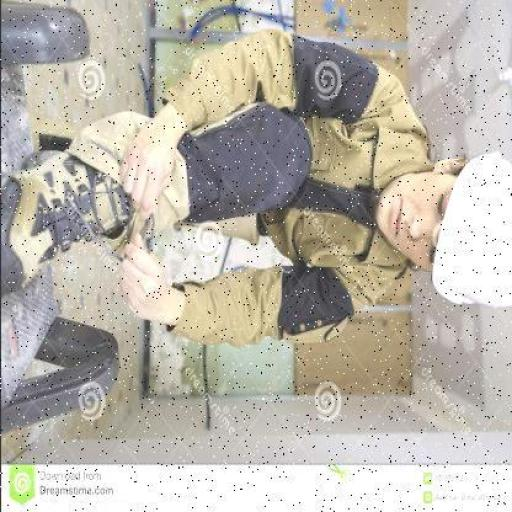person: (2, 52, 512, 347)
safety_shoe: (1, 135, 133, 299)
